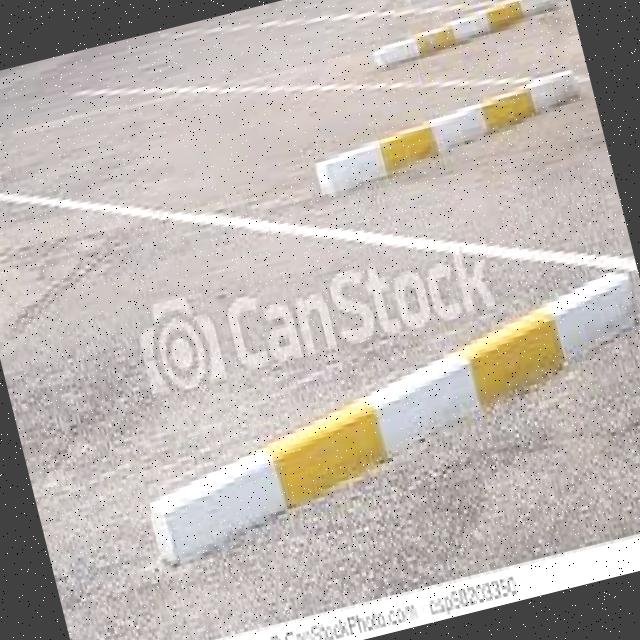curb: (147, 270, 635, 567), (315, 71, 585, 193), (389, 1, 564, 65)
